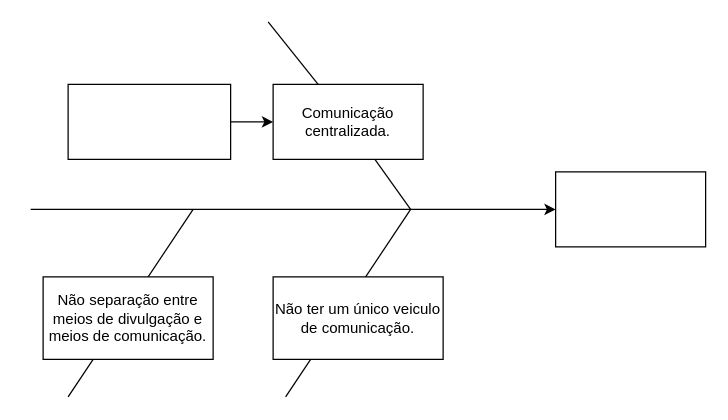
This 728x420 diagram has some shape labels left out. Here are the shapes that lost their labels. From the top down, the box of each, then its label:
(67, 83, 231, 159): Falta de auxilio no contato com os clientes.
(554, 171, 706, 247): Falta de comunicação unificada.
